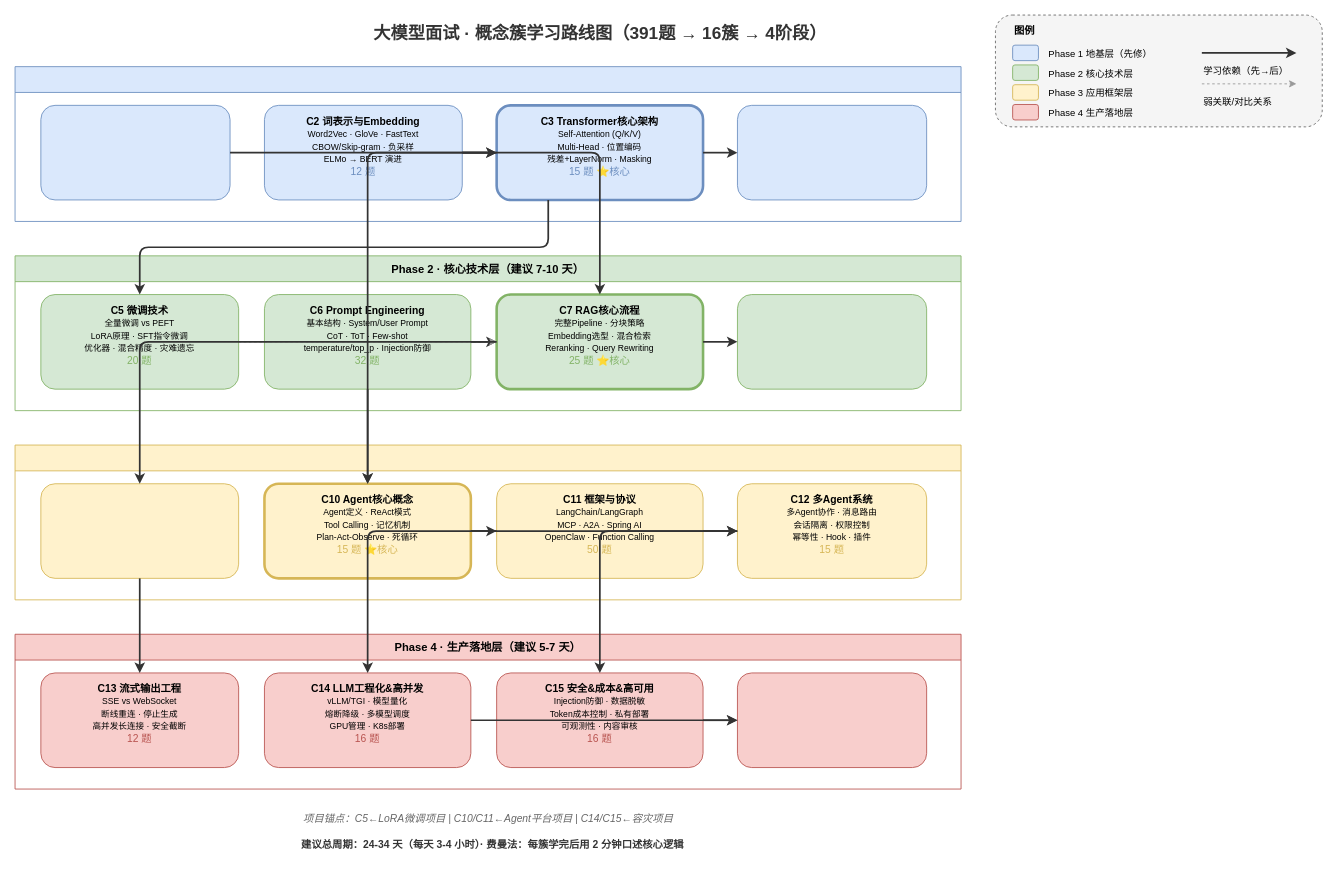
The diagram is 1337 pixels wide and 873 high, and some of its shapes have lost their labels. The box of each missing label's shape, as (x1, y1, x2, y2) in pixels:
C1 NLP序列模型 RNN → LSTM → GRU 梯度消失 · 门控机制 hidden state vs cell state 8 题: (40, 104, 230, 200)
C16 业务场景架构 智能客服 · 电商 · 医疗 知识库问答 · Text2SQL 运维Agent · 工单分类 14 题: (737, 672, 927, 768)
C4 模型变体与演进 GPT · ChatGLM · LLaMA ViT/ViLT · RoPE 涌现能力 · 自回归 10 题: (737, 104, 927, 200)
C8 向量数据库 ANN (HNSW/IVF/LSH/PQ) 相似度度量 · 选型 Milvus/Chroma · 增量更新 12 题: (737, 294, 927, 389)
C9 RAG工程优化 幻觉抑制 · 长文档处理 多格式解析 · 缓存设计 效果评估 · RAG vs FT选型 20 题: (40, 483, 239, 578)
Phase 1 · 地基层（建议 5-7 天）: (14, 66, 961, 221)
Phase 3 · 应用框架层（建议 7-10 天）: (14, 444, 961, 600)
